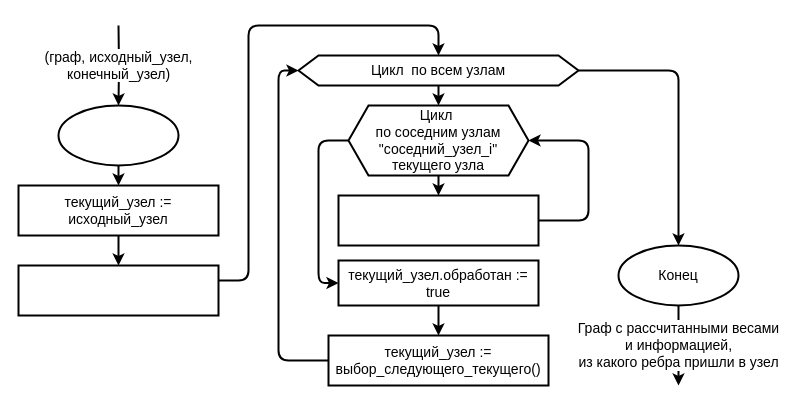
This 796x411 diagram has some shape labels left out. The shapes that lost their labels are listed below. From the top down, each one's centre as x and y in pixels, then its label:
(118,135): Начало Алгоритм Дейкстры
(438,220): вычислить стоимость(соседний_узел_i)
(118,290): текущий_узел.стоимость := 0
